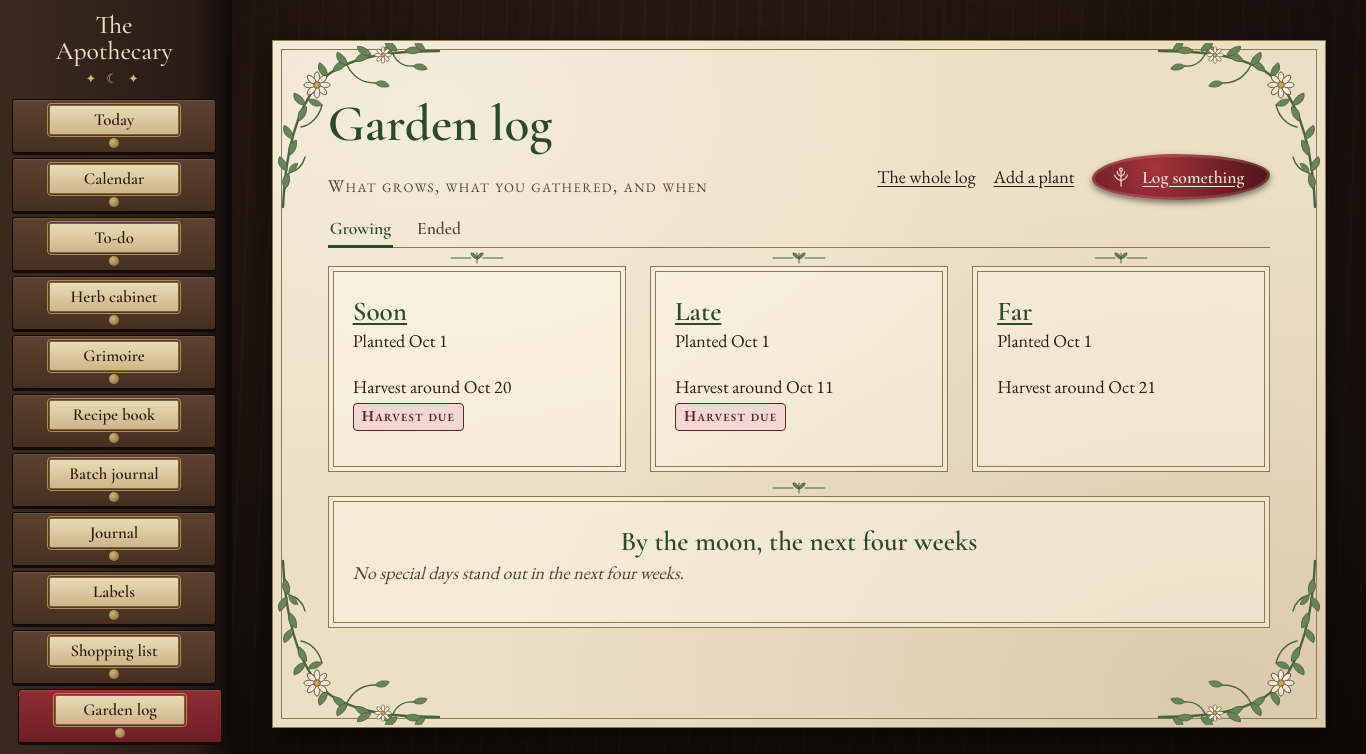
flags harvests due within a week or past, but not later or on ended plants
Expected: the link "Soon" is shown, x1=353 y1=295 x2=407 y2=328
Expected: the text "Harvest due" is shown 2 times, x1=353 y1=403 x2=464 y2=431; x1=675 y1=403 x2=786 y2=431
Click the link "Ended". click: (439, 229)
box: x1=417 y1=218 x2=461 y2=239
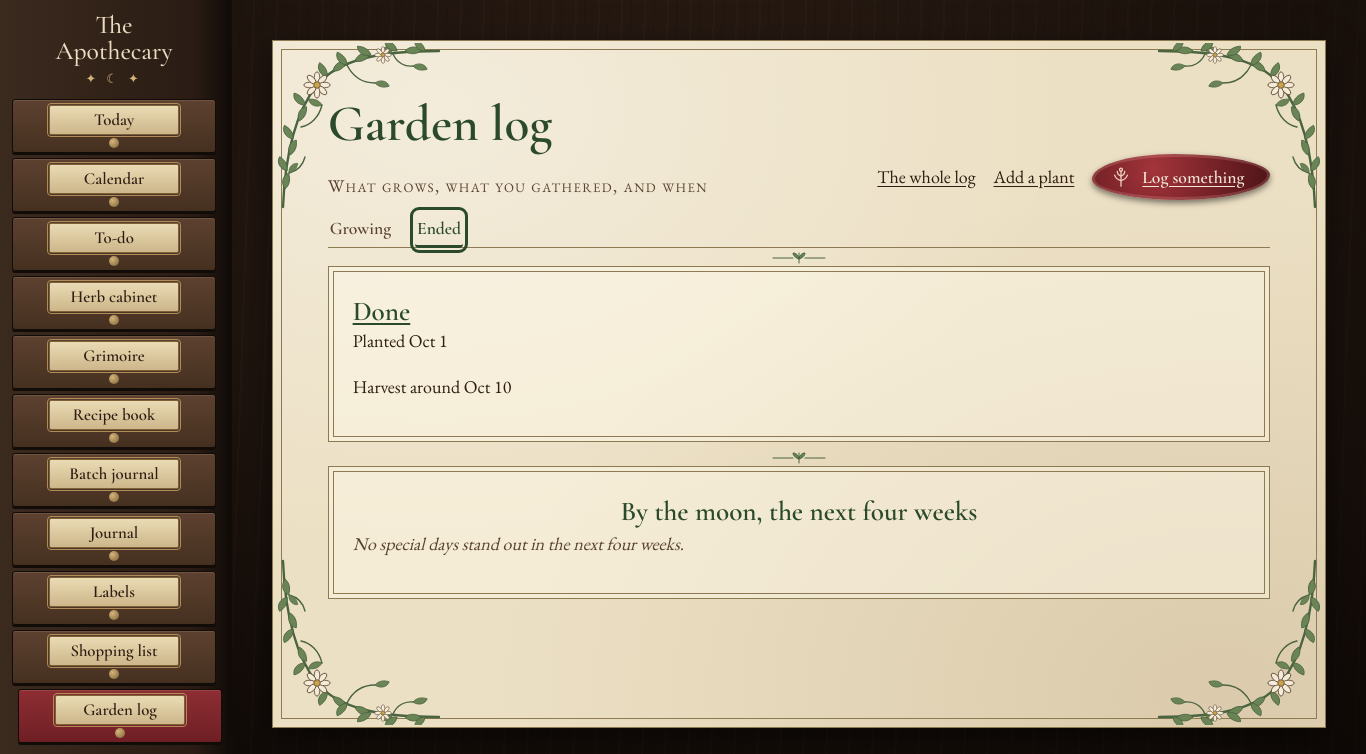
Now the link "Done" is shown, box x1=353 y1=295 x2=410 y2=328
Now the text "Harvest due" is gone
